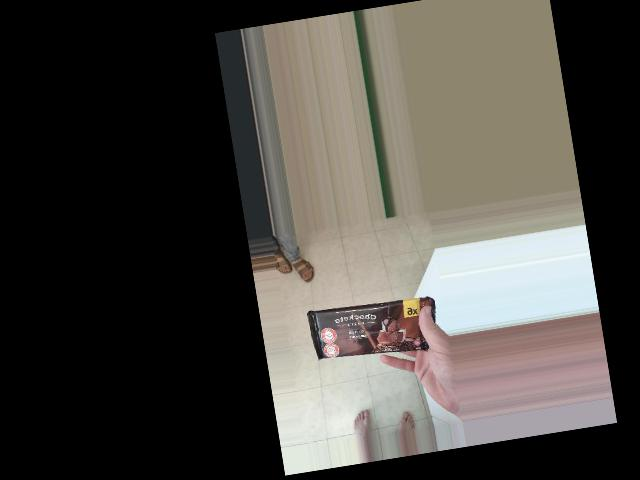chocolate: (306, 284, 446, 378)
